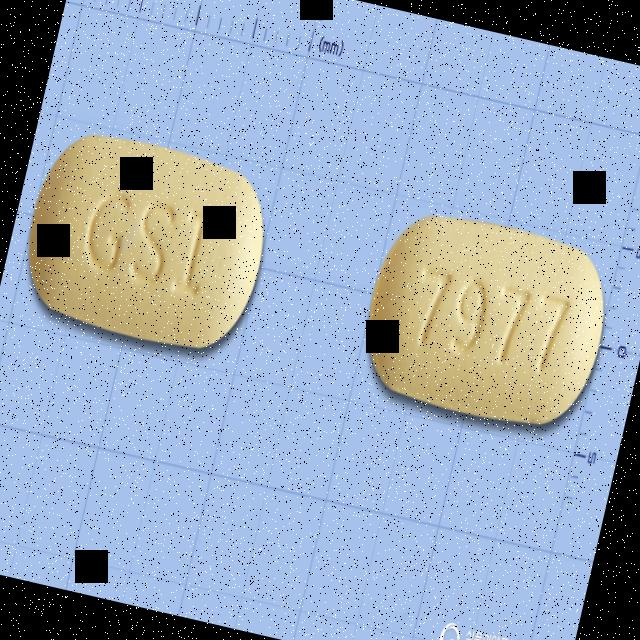Sovaldi Tab: (352, 203, 621, 440), (12, 125, 280, 362)
